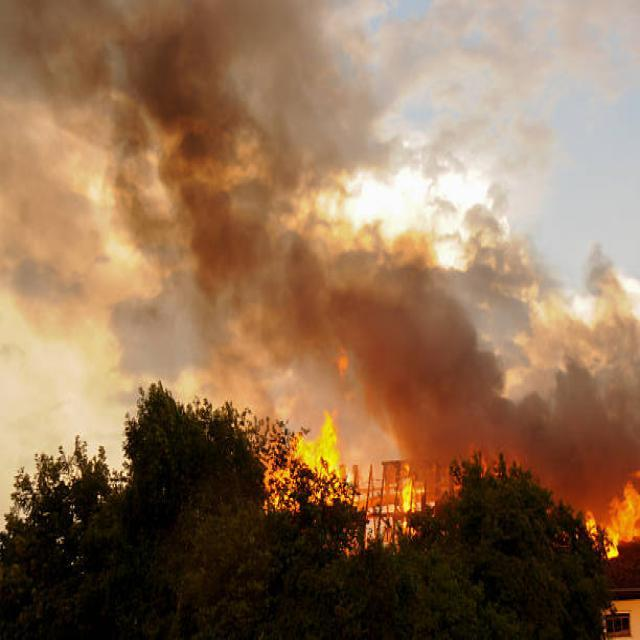Fire: (279, 415, 351, 515), (584, 466, 640, 560)
Smoke: (351, 288, 640, 504)
